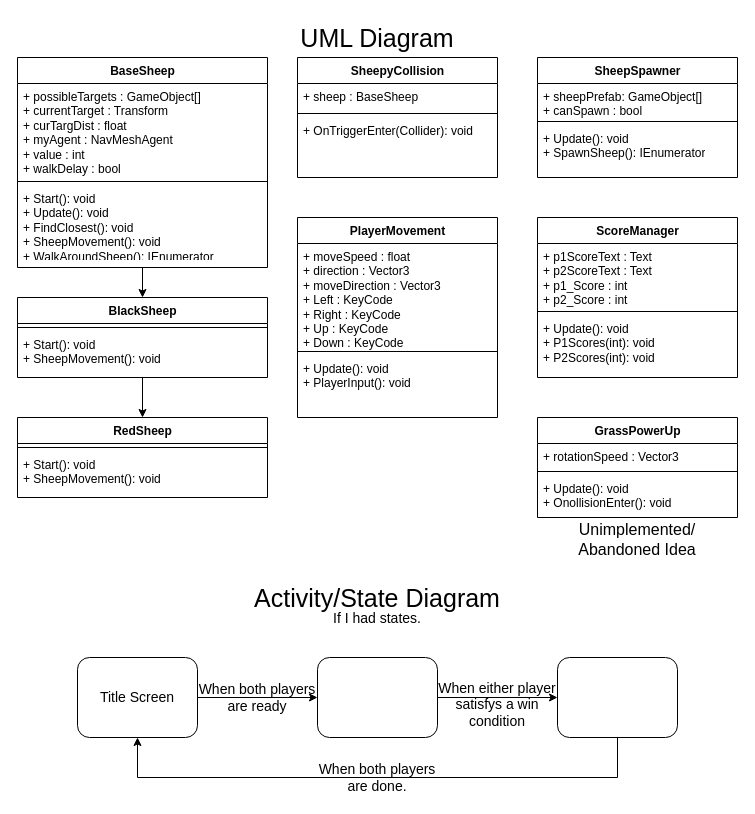
Some shapes in this 755 by 814 pixel diagram are drawn without their labels. The centre of each missing label's shape, as x and y in pixels:
"Gameplay" belongs at point 377,697.
"Victory/Lose Post Game Screen" belongs at point 617,697.
